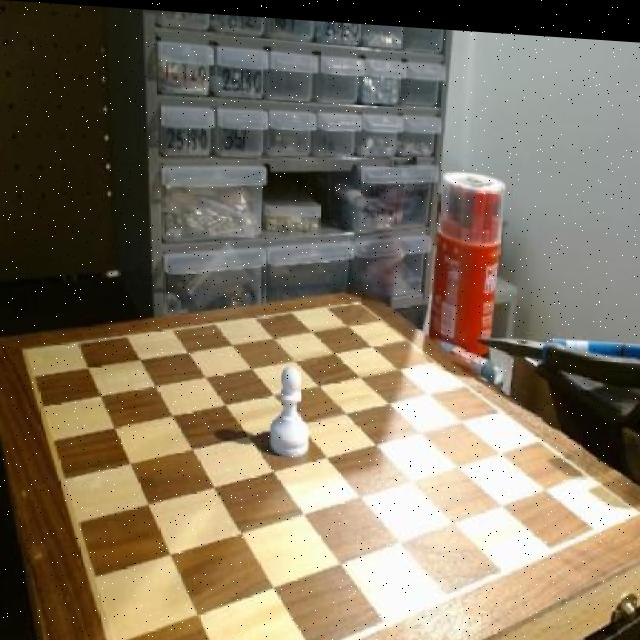white-knight: (266, 357, 313, 458)
